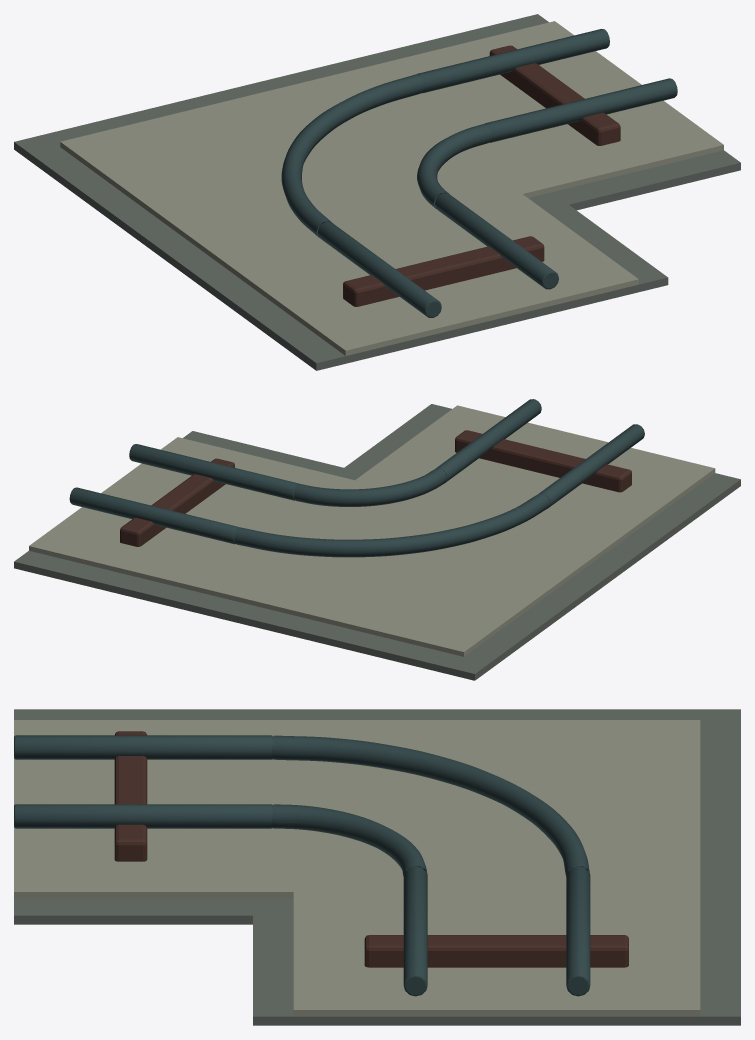
Rendered from tram_corner.glb.
The picture shows the model from 3 angles, top to bottom: view 1: azimuth 30°, elevation 25°; view 2: azimuth 150°, elevation 25°; view 3: azimuth 270°, elevation 25°; orthographic projection. The views are drawn at different scales.
Visible parts, largest first — view 1: tram_corner · stone, tram_corner · stone_dark, tram_corner · metal, tram_corner · wood; view 2: tram_corner · stone, tram_corner · stone_dark, tram_corner · metal, tram_corner · wood; view 3: tram_corner · stone, tram_corner · stone_dark, tram_corner · metal, tram_corner · wood.
Boxes of the visible parts, x1=… form: tram_corner · stone: x1=60, y1=21, x2=723, y2=355; tram_corner · stone_dark: x1=14, y1=14, x2=740, y2=370; tram_corner · metal: x1=281, y1=29, x2=677, y2=317; tram_corner · wood: x1=343, y1=45, x2=620, y2=306; tram_corner · stone: x1=29, y1=405, x2=715, y2=656; tram_corner · stone_dark: x1=14, y1=404, x2=740, y2=680; tram_corner · metal: x1=69, y1=399, x2=644, y2=557; tram_corner · wood: x1=120, y1=430, x2=631, y2=546; tram_corner · stone: x1=14, y1=720, x2=700, y2=1016; tram_corner · stone_dark: x1=14, y1=709, x2=740, y2=1025; tram_corner · metal: x1=14, y1=735, x2=590, y2=996; tram_corner · wood: x1=114, y1=731, x2=628, y2=967.
Size of the model in its own units: 0.715 by 0.0547 by 0.715.
